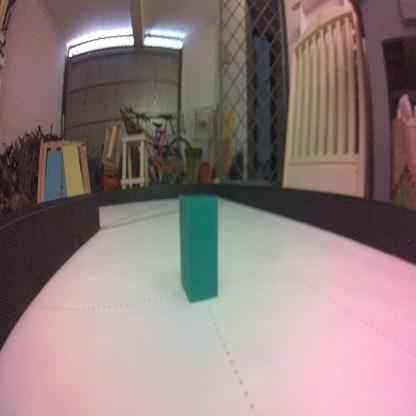green: (177, 191, 219, 301)
